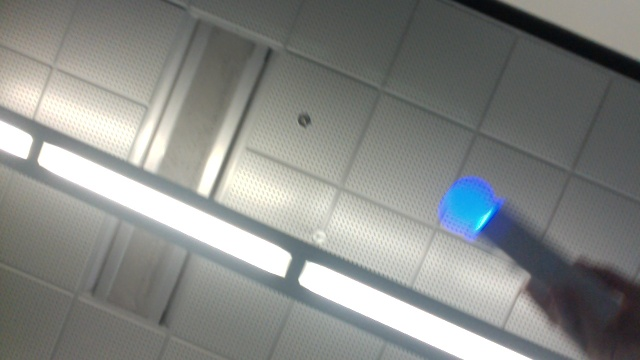wand: (440, 176, 496, 232)
